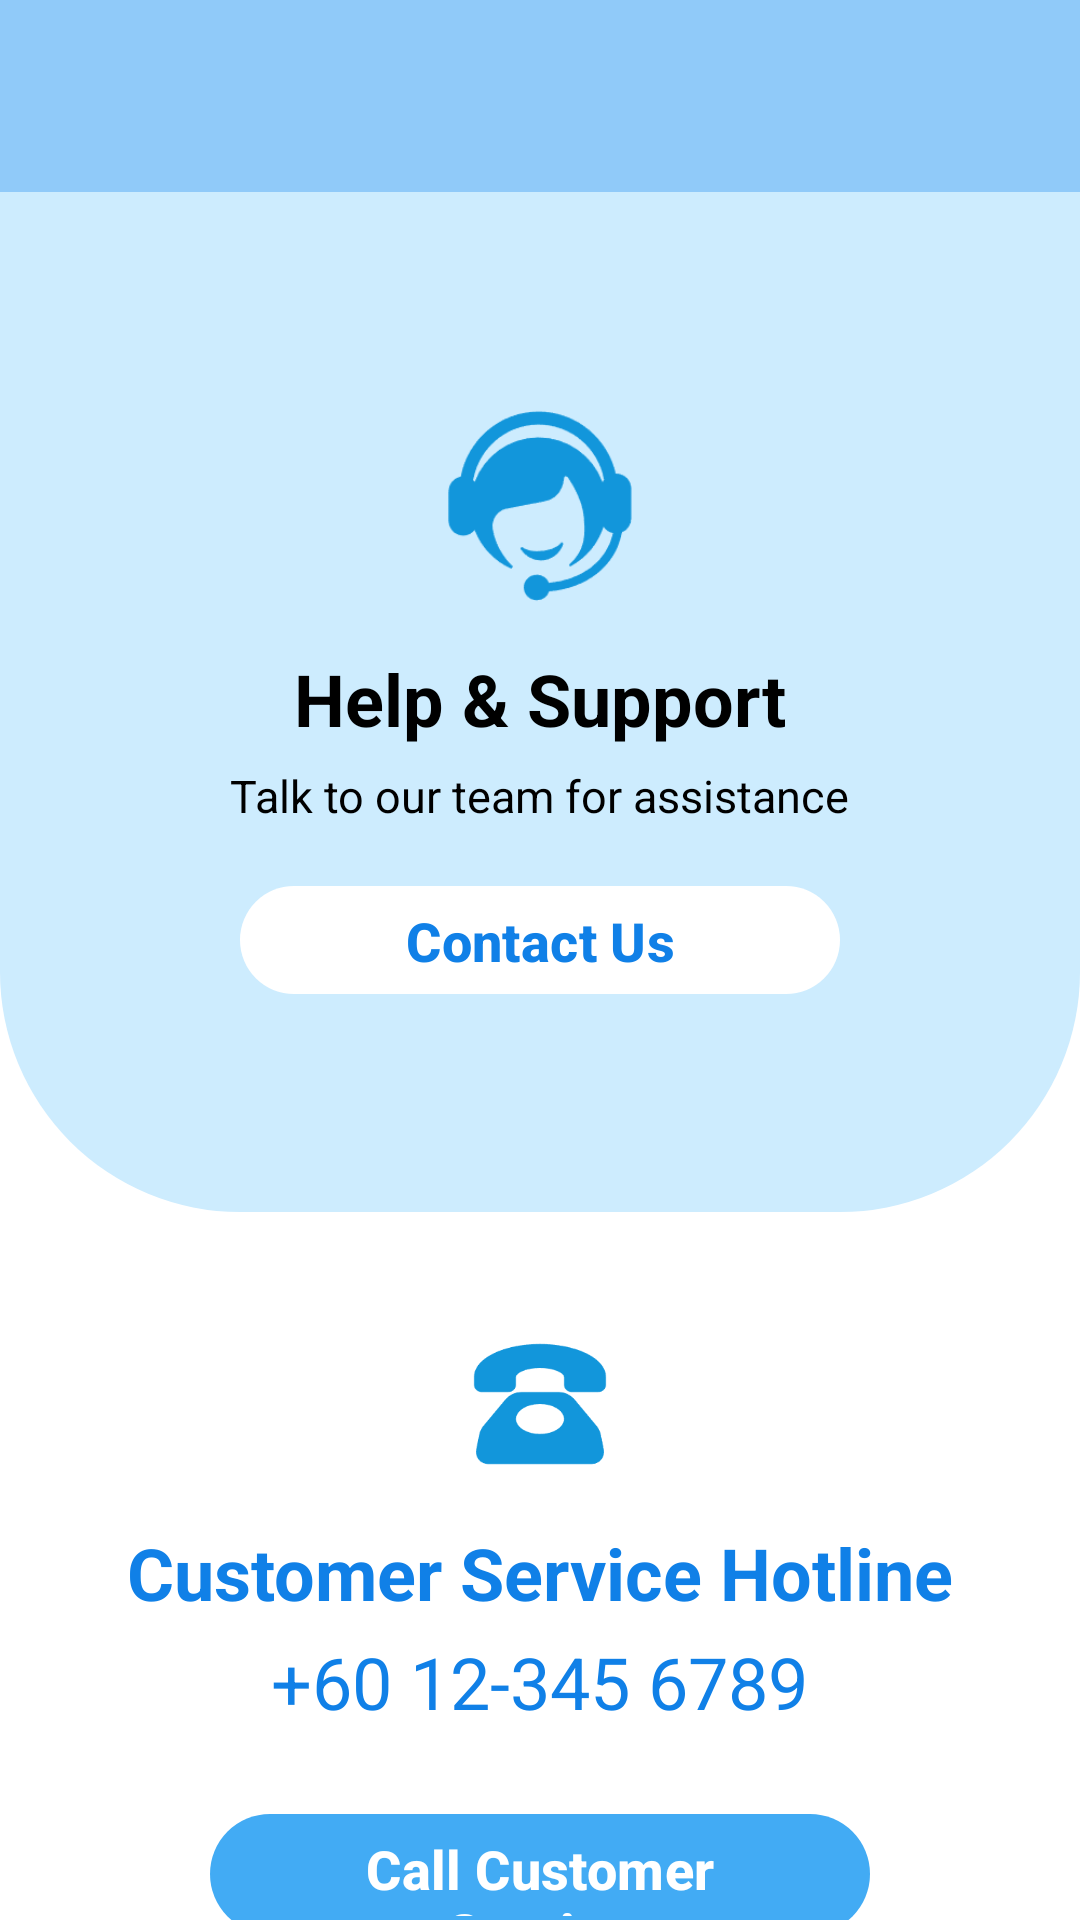

Icons on this 1080px×1920px Android screen, each with its box as (x1, y1, x2, y2):
Online support: (448, 411, 632, 601)
Phone support: (474, 1343, 606, 1465)
